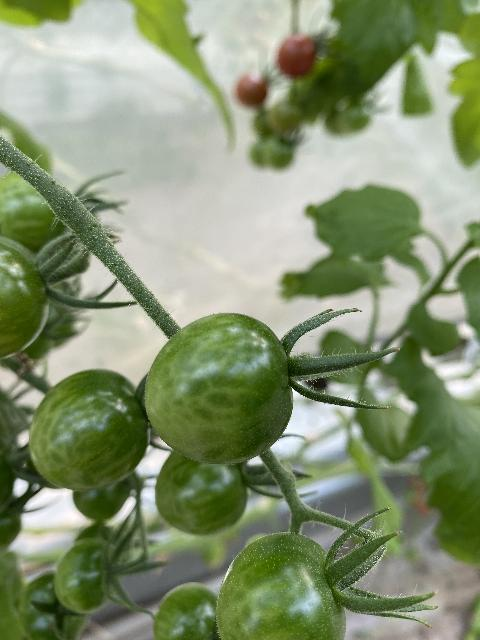l_green: (143, 312, 293, 465), (29, 368, 149, 491), (215, 533, 346, 639), (156, 450, 247, 535), (0, 235, 49, 360)
